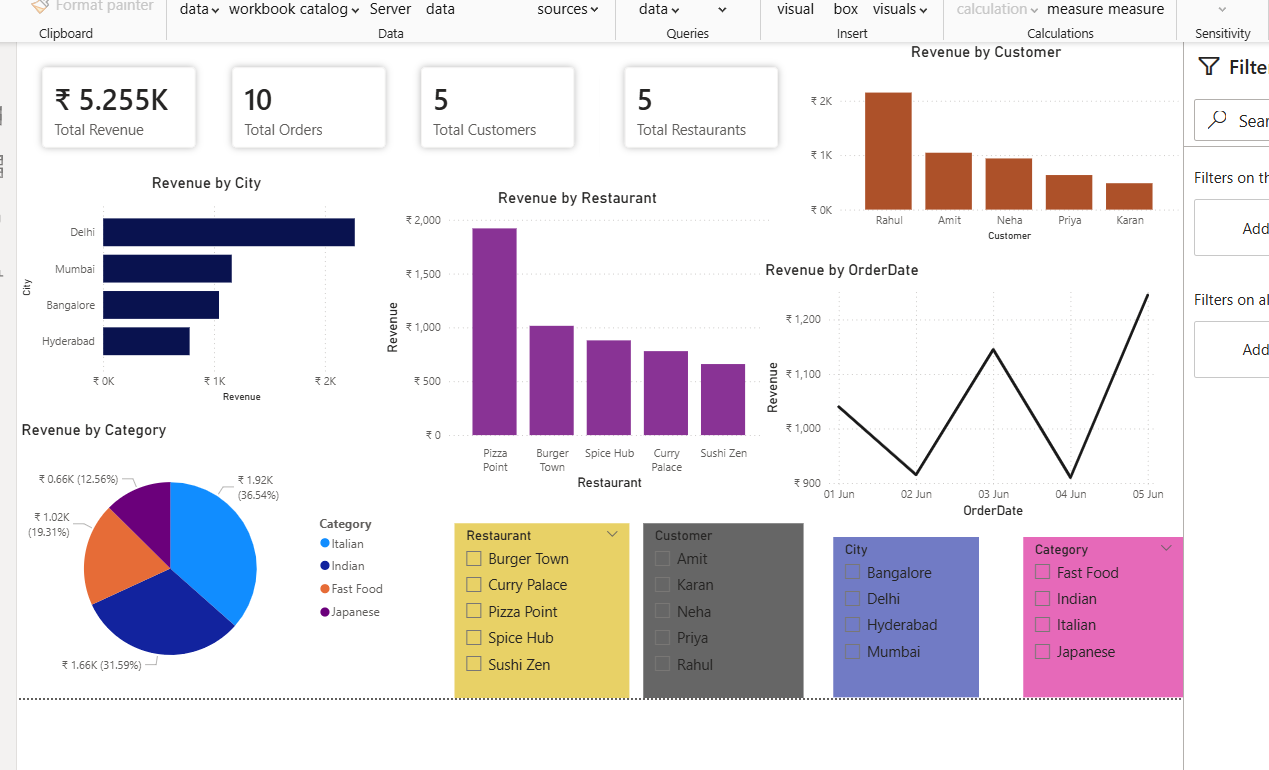

Layout of this report page (visuals, bound fields, positions):
{"tool":"powerbi","page":{"name":"Page 1","canvas":[1280,720],"ordinal":0},"visuals":[{"type":"cardVisual","fields":{"Data":["Count(Dataset.Customer)"]},"box":[432,0,224,144],"z":2},{"type":"barChart","fields":{"Category":["Dataset.City"],"Y":["Sum(Dataset.Revenue)"]},"box":[0,144,416,256],"z":4},{"type":"pieChart","fields":{"Category":["Dataset.Category"],"Y":["Sum(Dataset.Revenue)"]},"box":[0,416,416,304],"z":5},{"type":"columnChart","fields":{"Category":["Dataset.Restaurant"],"Y":["Sum(Dataset.Revenue)"]},"box":[400,160,432,336],"z":6},{"type":"lineChart","fields":{"Y":["Sum(Dataset.Revenue)"],"Category":["Dataset.OrderDate"]},"box":[816,240,448,288],"z":7},{"type":"slicer","fields":{"Values":["Dataset.City"]},"box":[896,544,160,176],"z":8},{"type":"slicer","fields":{"Values":["Dataset.Category"]},"box":[1104,544,176,176],"z":9},{"type":"slicer","fields":{"Values":["Dataset.Restaurant"]},"box":[480,528,192,192],"z":10},{"type":"slicer","fields":{"Values":["Dataset.Customer"]},"box":[688,528,176,192],"z":11},{"type":"columnChart","fields":{"Category":["Dataset.Customer"],"Y":["Sum(Dataset.Revenue)"]},"box":[848,0,432,224],"z":12},{"type":"cardVisual","fields":{"Data":["Count(Dataset.Customer)"]},"box":[442,10,224,144],"z":13},{"type":"cardVisual","fields":{"Data":["Count(Dataset.Customer)"]},"box":[416,0,224,144],"z":14},{"type":"cardVisual","fields":{"Data":["CountNonNull(Dataset.DeliveryFee)"]},"box":[208,0,224,144],"z":15},{"type":"cardVisual","fields":{"Data":["Count(Dataset.Restaurant)"]},"box":[640,0,224,144],"z":16},{"type":"cardVisual","fields":{"Data":["Sum(Dataset.Revenue)"]},"box":[0,0,224,144],"z":17}]}

Visuals, with their boxes on the page's 1280x720 design canvas (x1, y1, x2, y2). These are canvas units, not pixel positions in the 1269x770 screenshot, which may show the page scaled, cropped or inside an application window:
cardVisual - Count(Dataset.Customer): [432, 0, 656, 144]
barChart - Dataset.City x Sum(Dataset.Revenue): [0, 144, 416, 400]
pieChart - Dataset.Category x Sum(Dataset.Revenue): [0, 416, 416, 720]
columnChart - Dataset.Restaurant x Sum(Dataset.Revenue): [400, 160, 832, 496]
lineChart - Sum(Dataset.Revenue) x Dataset.OrderDate: [816, 240, 1264, 528]
slicer - Dataset.City: [896, 544, 1056, 720]
slicer - Dataset.Category: [1104, 544, 1280, 720]
slicer - Dataset.Restaurant: [480, 528, 672, 720]
slicer - Dataset.Customer: [688, 528, 864, 720]
columnChart - Dataset.Customer x Sum(Dataset.Revenue): [848, 0, 1280, 224]
cardVisual - Count(Dataset.Customer): [442, 10, 666, 154]
cardVisual - Count(Dataset.Customer): [416, 0, 640, 144]
cardVisual - CountNonNull(Dataset.DeliveryFee): [208, 0, 432, 144]
cardVisual - Count(Dataset.Restaurant): [640, 0, 864, 144]
cardVisual - Sum(Dataset.Revenue): [0, 0, 224, 144]
